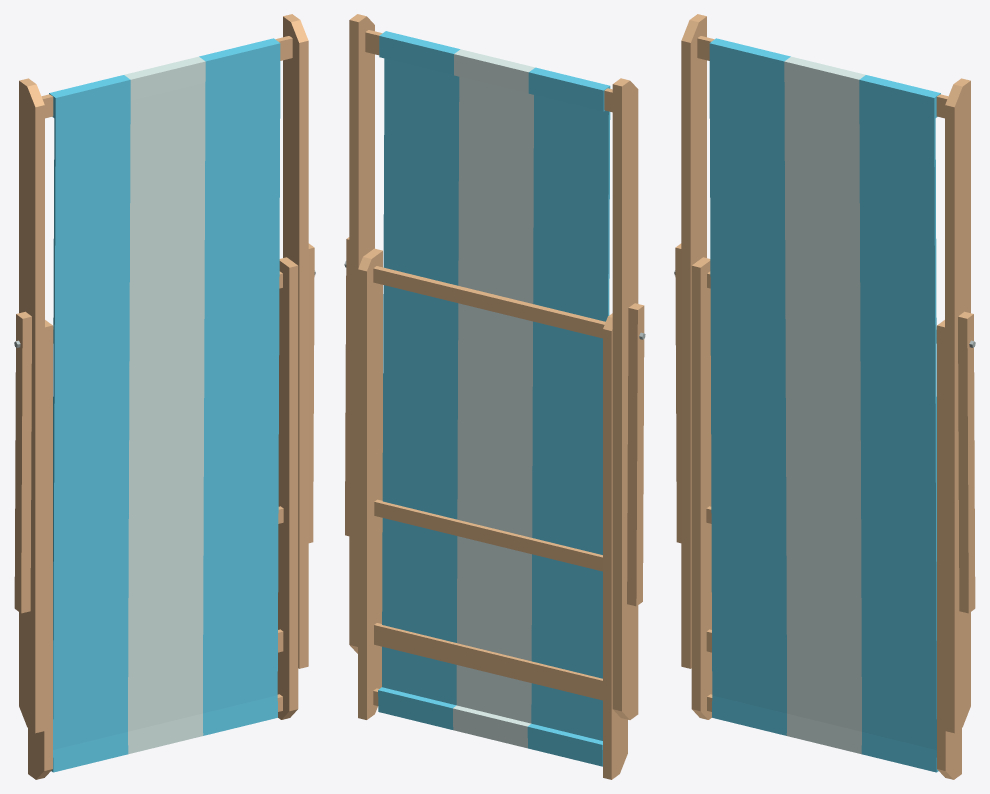
Rendered from ChaiseLongue_A_Closed.fbx.
3 renders of one model, left to right at view 1: azimuth 30°, elevation 25°; view 2: azimuth 150°, elevation 25°; view 3: azimuth 330°, elevation 25°, orthographic.
Parts seen in each view (by area): view 1: ChaiseLongue_A_Closed; view 2: ChaiseLongue_A_Closed; view 3: ChaiseLongue_A_Closed.
Part boxes in pixels (bbox=[...]): ChaiseLongue_A_Closed: bbox=[14, 14, 315, 779]; ChaiseLongue_A_Closed: bbox=[344, 14, 645, 779]; ChaiseLongue_A_Closed: bbox=[674, 14, 975, 779].
Bounding box in the file's own units: 63.32 × 141 × 6.29.
